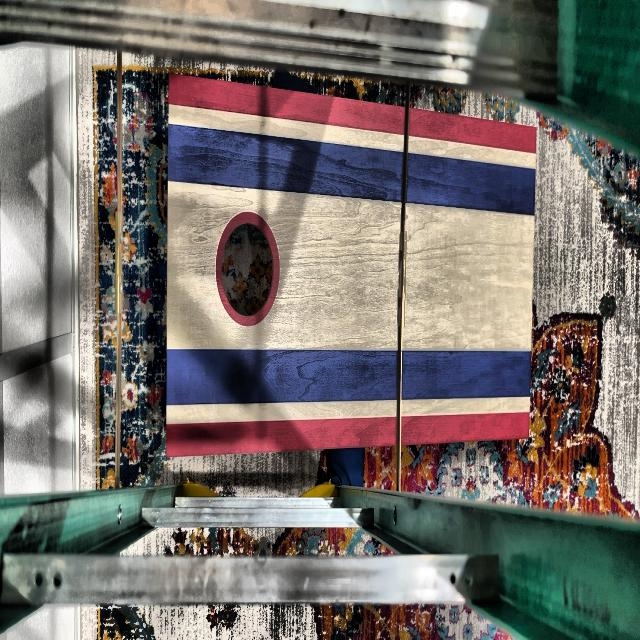blue-bean-bag: (328, 448, 366, 488), (270, 66, 318, 96)
board: (167, 130, 528, 436)
hole: (215, 208, 281, 327)
